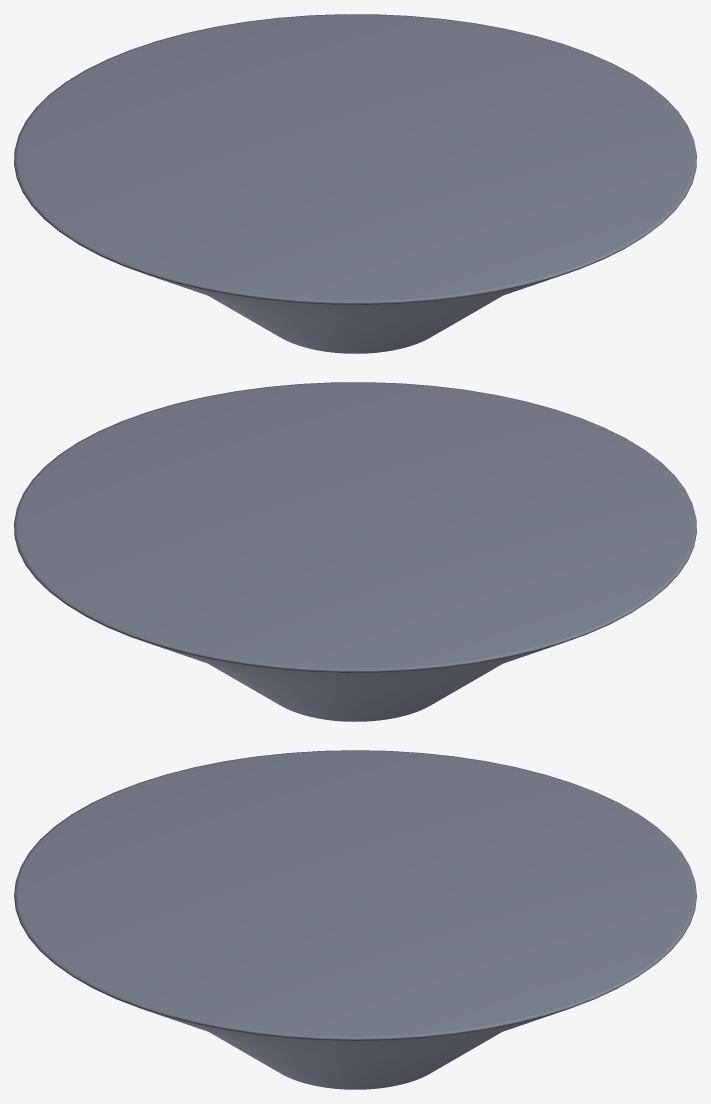
File: mount.glb
3 views of the same model, one above another, from view 1: azimuth 30°, elevation 25°; view 2: azimuth 150°, elevation 25°; view 3: azimuth 270°, elevation 25° (orthographic).
Visible parts, largest first — view 1: Mount; view 2: Mount; view 3: Mount.
Boxes of the visible parts, <box> form: Mount: <box>14,14,696,353</box>; Mount: <box>14,382,696,721</box>; Mount: <box>14,750,696,1089</box>.
Bounding box in the file's own units: 2.37 × 0.6 × 2.37.
